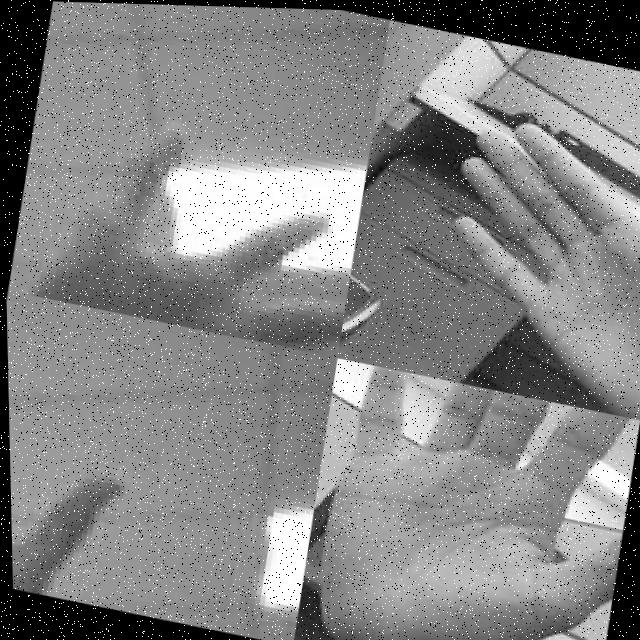hand: (295, 356, 640, 640), (25, 86, 371, 355), (416, 101, 640, 415), (5, 289, 158, 608)
